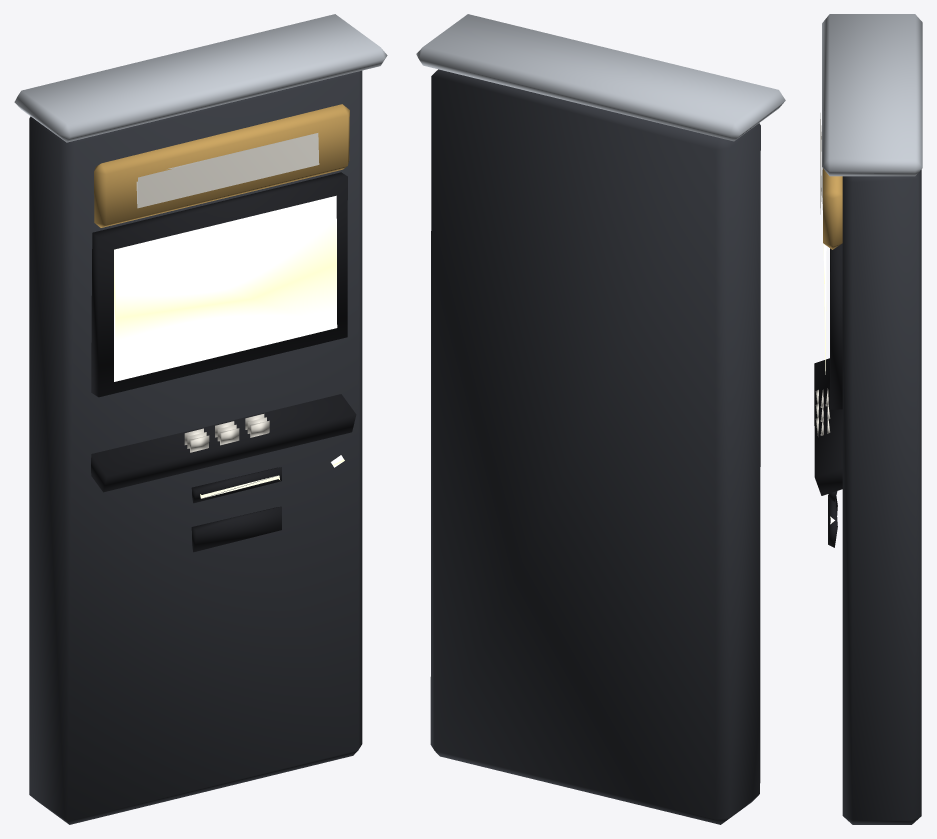
Rendered from lod_atm_unit.glb.
3 renders of one model, left to right at view 1: azimuth 30°, elevation 25°; view 2: azimuth 150°, elevation 25°; view 3: azimuth 270°, elevation 25°, orthographic. The views are drawn at different scales.
Visible parts, largest first — view 1: atm_unit; view 2: atm_unit; view 3: atm_unit.
Boxes of the visible parts, x1=… form: atm_unit: x1=14, y1=14, x2=387, y2=824; atm_unit: x1=416, y1=14, x2=785, y2=824; atm_unit: x1=814, y1=14, x2=922, y2=824.
Size of the model in its own units: 1.09 by 2.26 by 0.3301.
